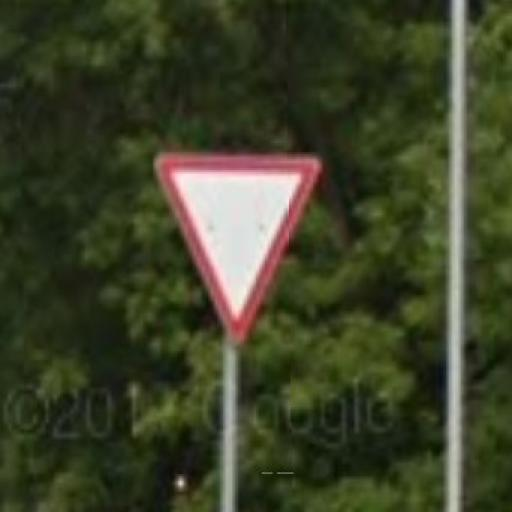traffic_sign: (154, 153, 323, 348)
